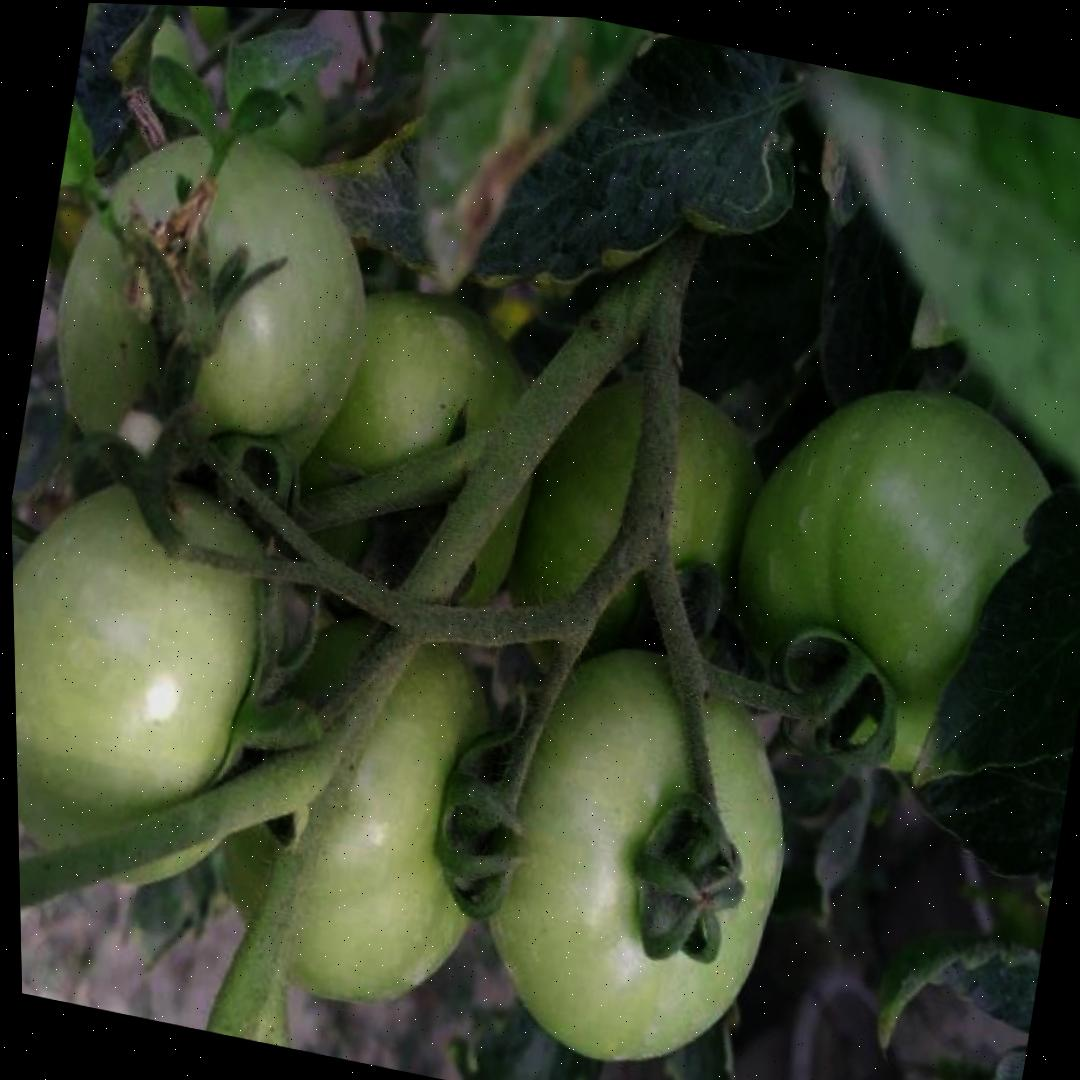mentah: (696, 347, 1080, 815), (18, 96, 403, 560), (448, 620, 821, 1080), (182, 581, 533, 1033), (233, 260, 575, 678), (10, 447, 305, 917)
